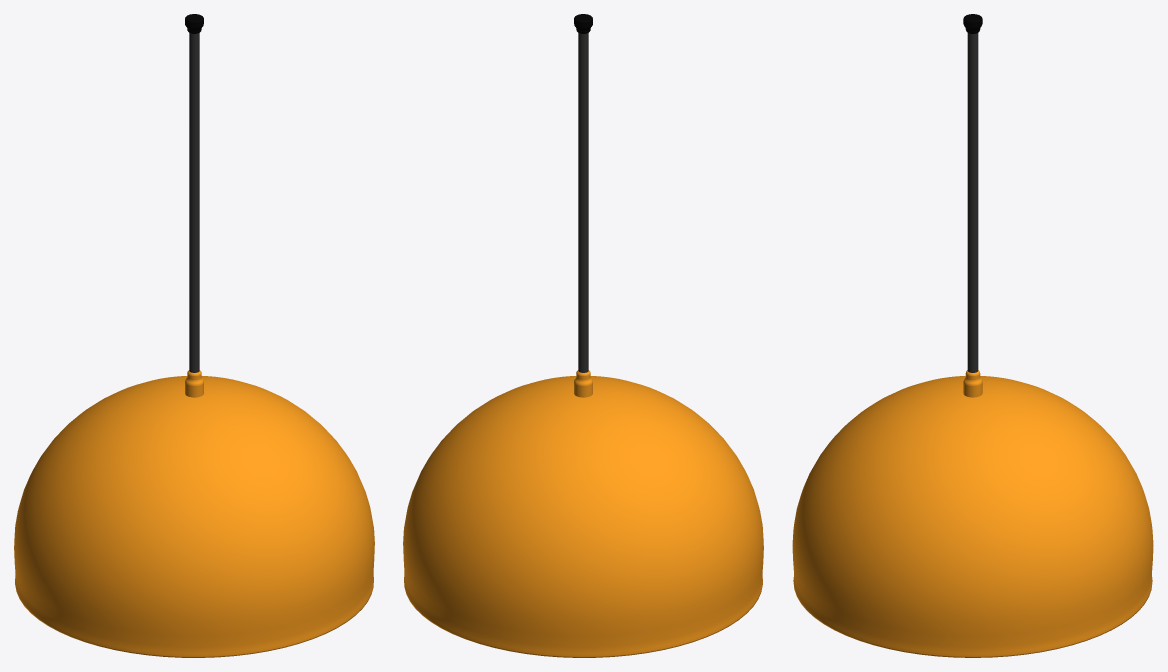
File: Lamp.fbx
3 renders of one model, left to right at view 1: azimuth 30°, elevation 25°; view 2: azimuth 150°, elevation 25°; view 3: azimuth 270°, elevation 25°, orthographic.
Parts seen in each view (by area): view 1: Lamp, Rope; view 2: Lamp, Rope; view 3: Lamp, Rope.
Part boxes in pixels (x1,y1,x2,y2): Lamp: (14, 376, 374, 657); Rope: (189, 33, 199, 372); Lamp: (403, 376, 763, 657); Rope: (578, 33, 588, 372); Lamp: (792, 376, 1153, 657); Rope: (967, 33, 978, 372).
Bounding box in the file's own units: 197 × 197 × 341.
